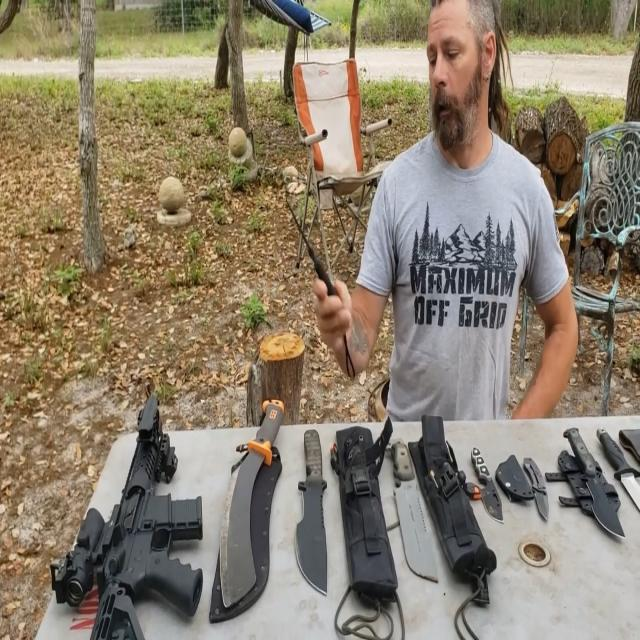knife: (210, 399, 292, 609), (380, 425, 444, 584), (278, 198, 343, 334), (558, 424, 623, 544), (294, 409, 333, 599), (461, 428, 511, 528), (596, 408, 640, 516), (517, 440, 554, 528)
long weapon: (47, 374, 206, 639)
